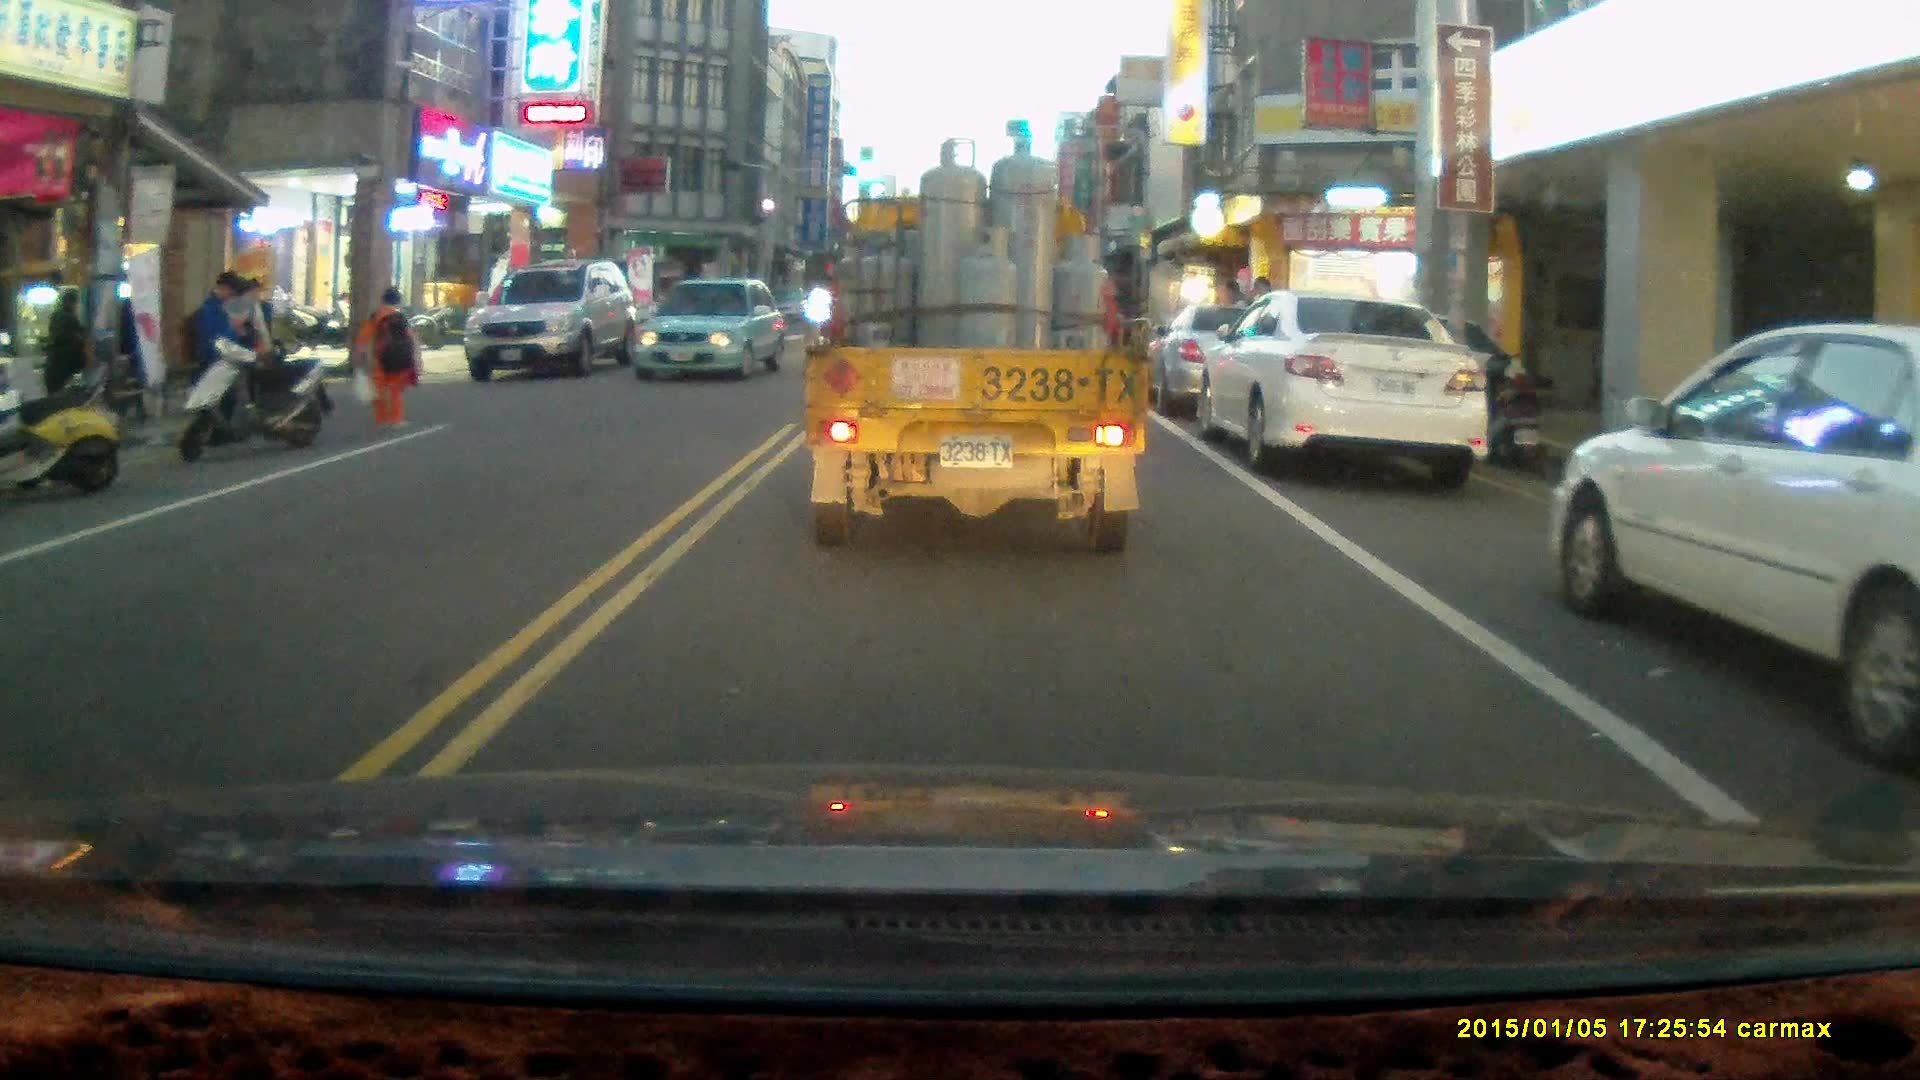pedestrian: (174, 271, 249, 445), (359, 284, 424, 427), (38, 286, 86, 444)
vehicle: (1548, 321, 1920, 762), (803, 131, 1157, 557), (1199, 288, 1490, 482), (1144, 300, 1360, 423), (468, 260, 638, 387), (631, 278, 788, 385)
